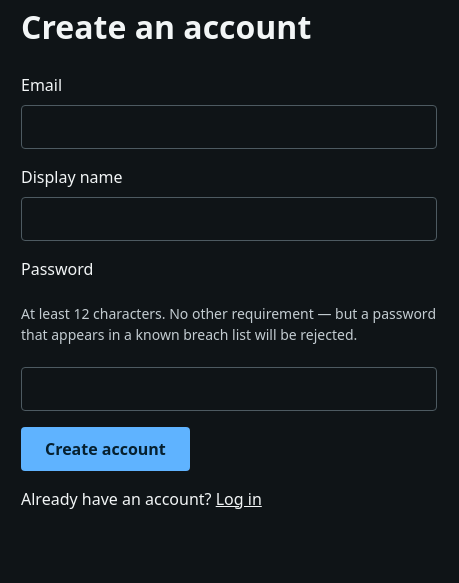
Scenario: Register (S-02, docs/32_UX/Screen_Inventory.md §3) › shows a breached-password rejection inline, not as a generic toast
In the field labelled "Email": {"x": 229, "y": 127} x1=21 y1=105 x2=437 y2=149, type "alice@example.com"
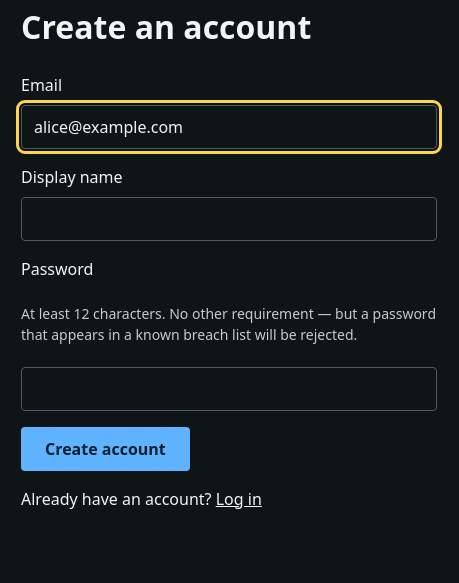
In the field labelled "Display name": {"x": 229, "y": 219} x1=21 y1=197 x2=437 y2=241, type "Alice"
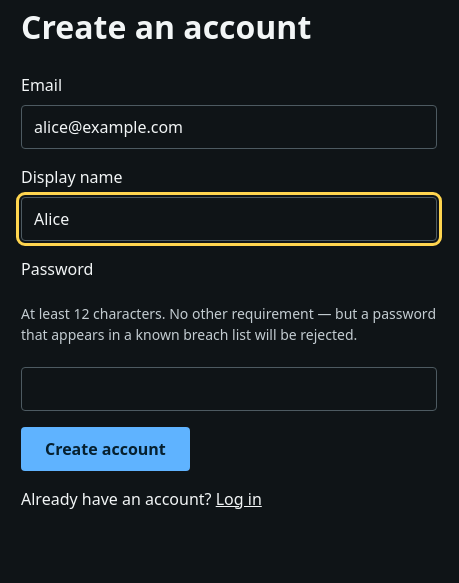
In the password field labelled "Password": {"x": 229, "y": 389} x1=21 y1=367 x2=437 y2=411, type "password123456"
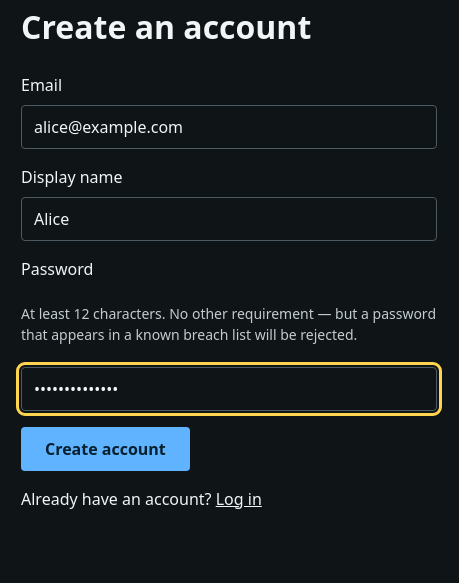
Click the button "Create account": {"x": 105, "y": 449} x1=21 y1=427 x2=190 y2=471
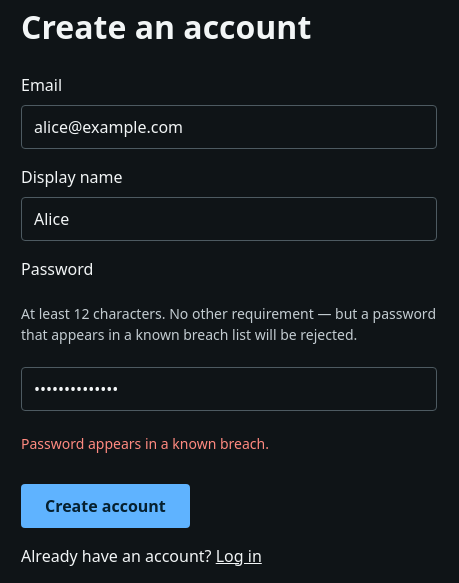
Expected: the message reads "Password appears in a known breach.", x1=21 y1=434 x2=269 y2=453
